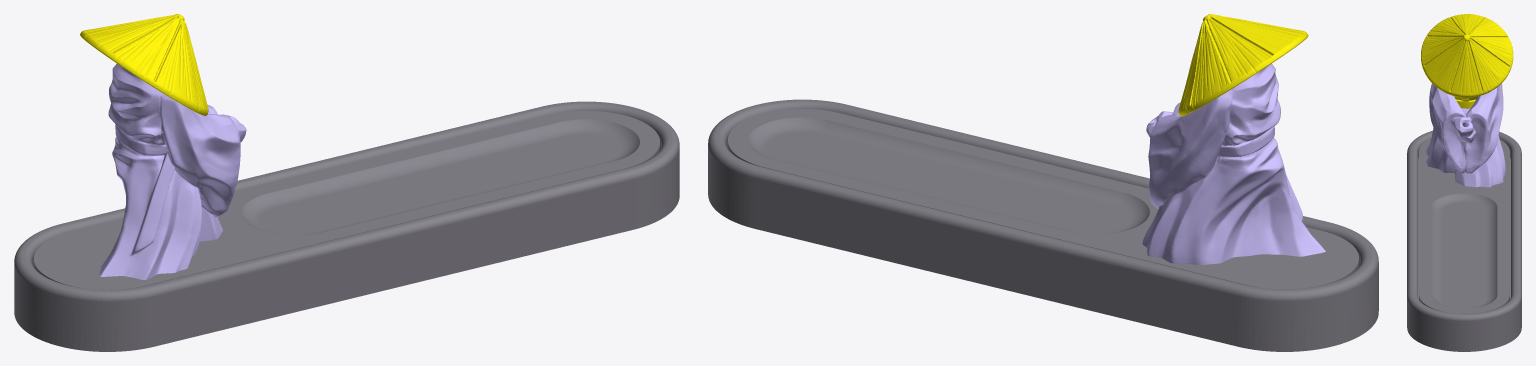
Rendered from incense-burner.glb.
3 renders of one model, left to right at view 1: azimuth 30°, elevation 25°; view 2: azimuth 150°, elevation 25°; view 3: azimuth 270°, elevation 25°, orthographic. The views are drawn at different scales.
Parts seen in each view (by area): view 1: Base, Body, Hat; view 2: Base, Body, Hat; view 3: Base, Hat, Body.
Part boxes in pixels (x1,y1,x2,y2): Base: [14, 101, 679, 351]; Body: [99, 64, 246, 279]; Hat: [80, 14, 208, 115]; Base: [708, 99, 1378, 351]; Body: [1142, 63, 1325, 264]; Hat: [1178, 14, 1308, 116]; Base: [1407, 130, 1521, 351]; Hat: [1421, 14, 1513, 108]; Body: [1426, 83, 1505, 187].
Size of the model in its own units: 293 by 122 by 74.
